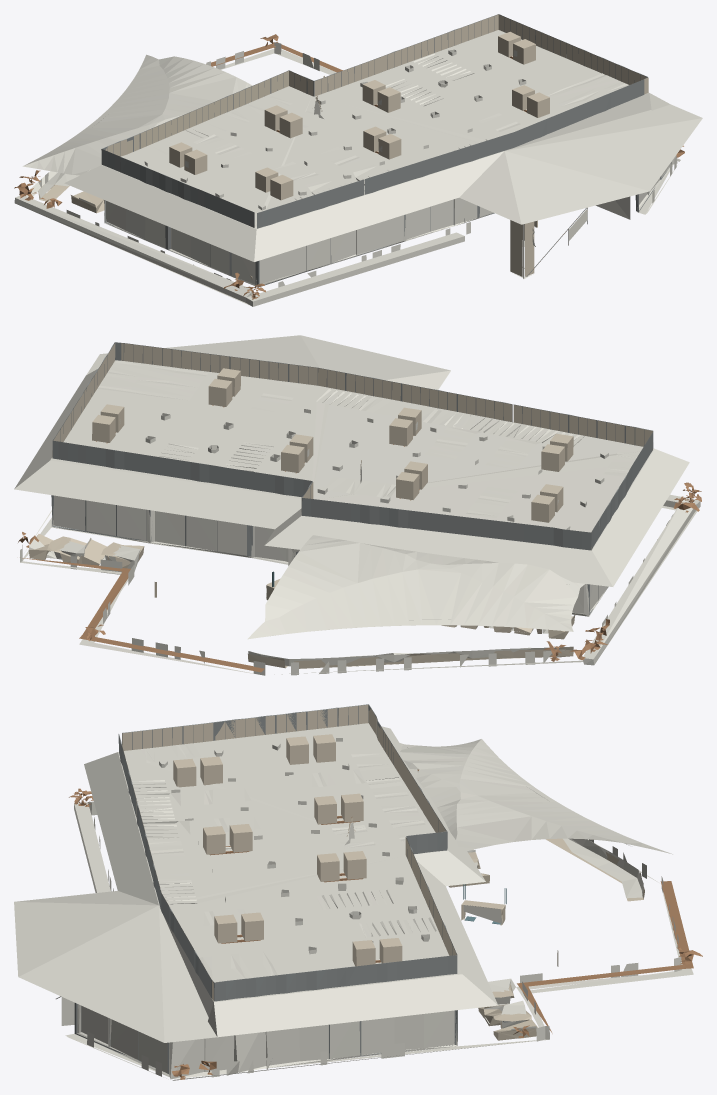
File: city-preview.glb
3 renders of one model, top to bottom at view 1: azimuth 30°, elevation 25°; view 2: azimuth 150°, elevation 25°; view 3: azimuth 270°, elevation 25°, orthographic. The views are drawn at different scales.
Bounding box in the file's own units: 44.04 × 9.61 × 39.06.
